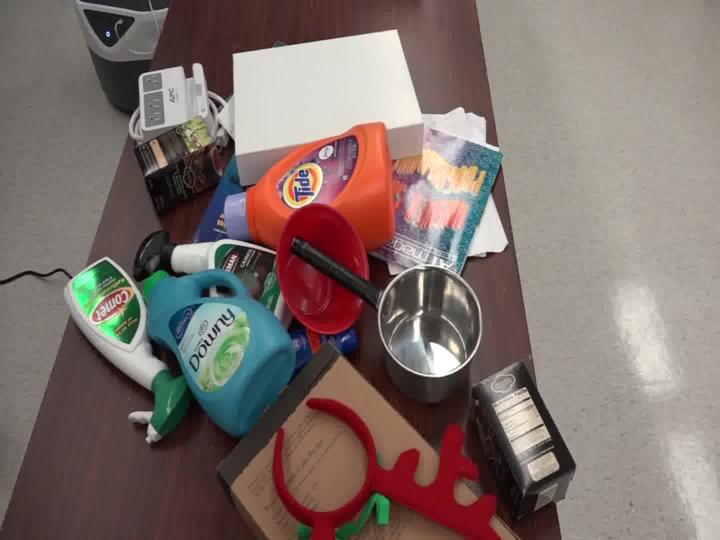downy: (113, 235, 316, 450)
